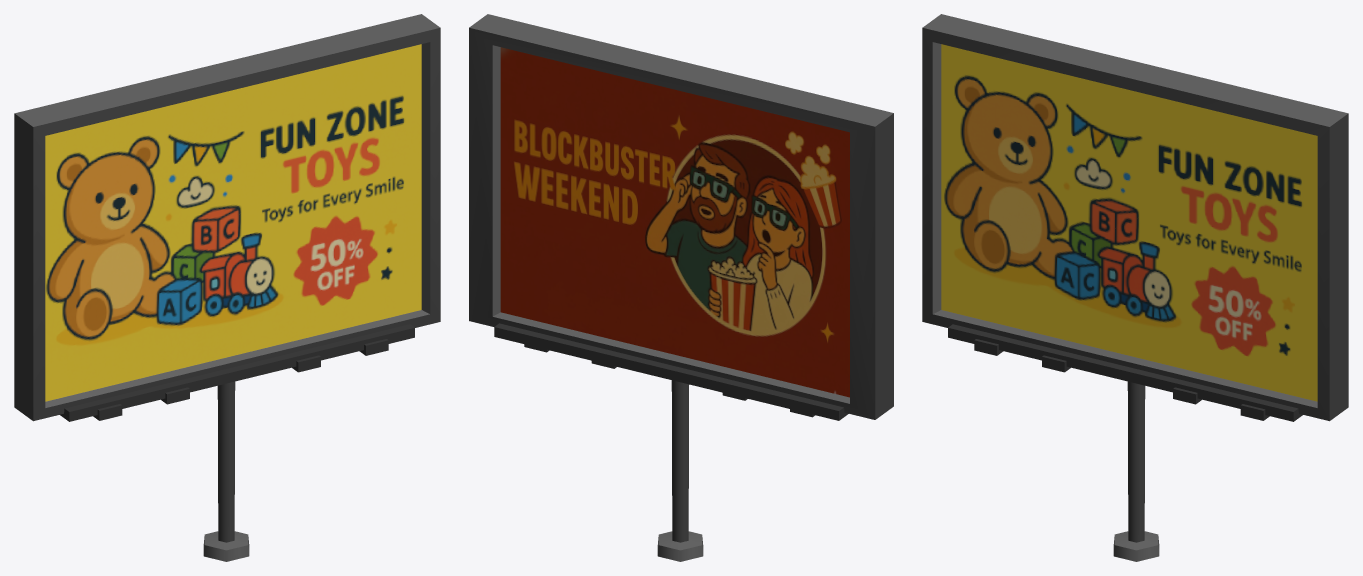
The model's file is Billboard1S.fbx.
3 renders of one model, left to right at view 1: azimuth 30°, elevation 25°; view 2: azimuth 150°, elevation 25°; view 3: azimuth 330°, elevation 25°, orthographic.
Parts seen in each view (by area): view 1: Billbord1S; view 2: Billbord1S; view 3: Billbord1S.
Part boxes in pixels (left/top/right/bottom): Billbord1S: left=14, top=14, right=440, bottom=561; Billbord1S: left=469, top=14, right=893, bottom=561; Billbord1S: left=922, top=14, right=1348, bottom=561.
Size of the model in its own units: 1.93 by 2.18 by 0.2587.
